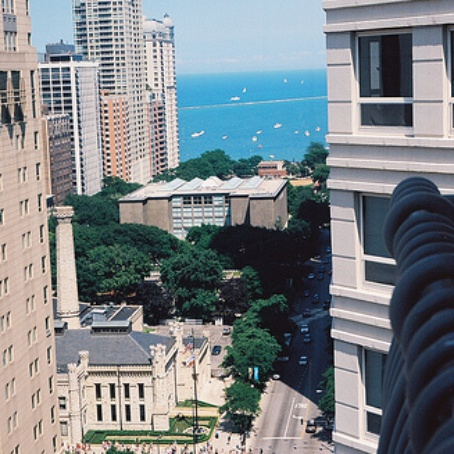building: (330, 1, 454, 454), (1, 1, 64, 449), (64, 256, 167, 451), (77, 1, 148, 183), (46, 55, 107, 191), (145, 24, 176, 187)
sea: (175, 67, 328, 155)
sky: (172, 1, 329, 66)
street: (247, 257, 334, 452)
vegetation: (79, 223, 290, 328)
